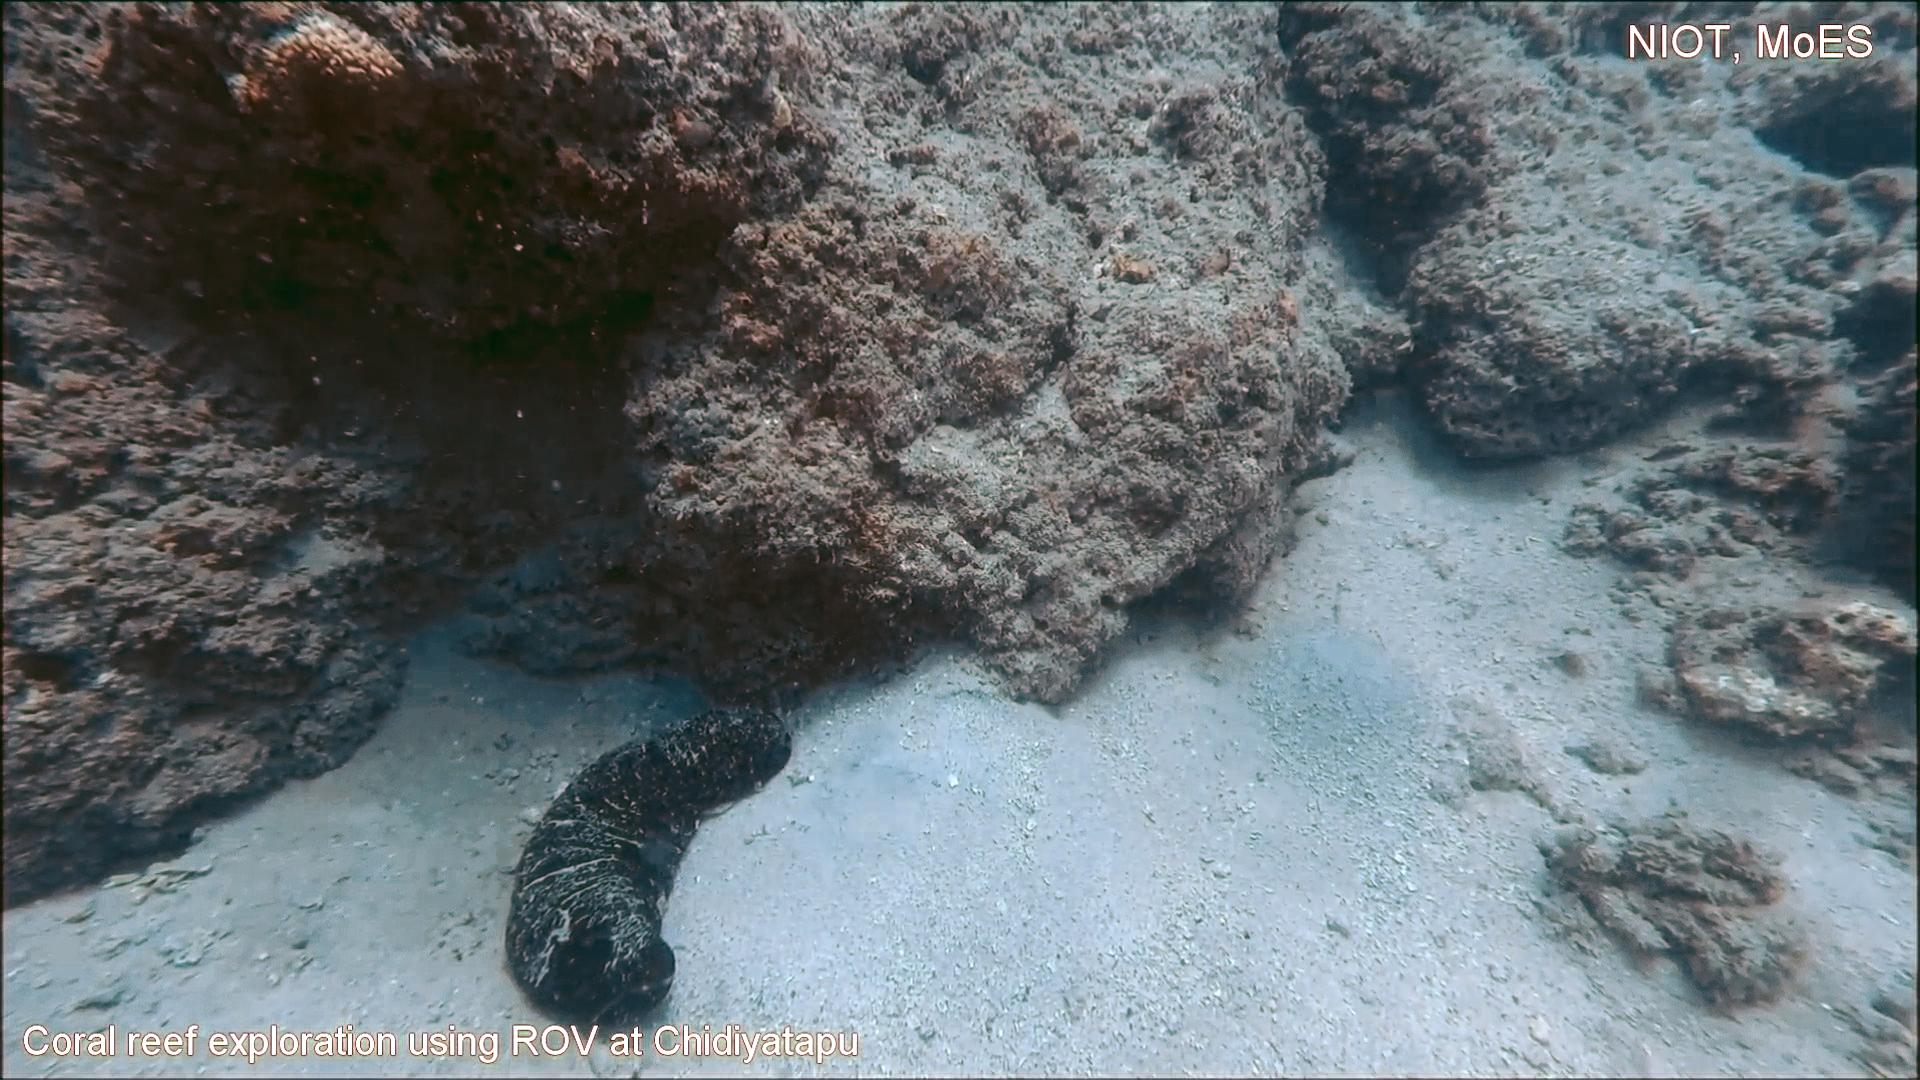Montastraea: (224, 8, 418, 142)
